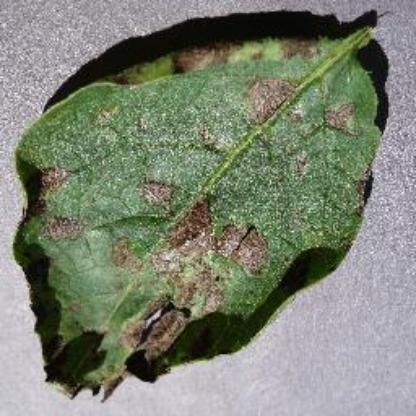Early-Blight: (14, 10, 404, 402)
